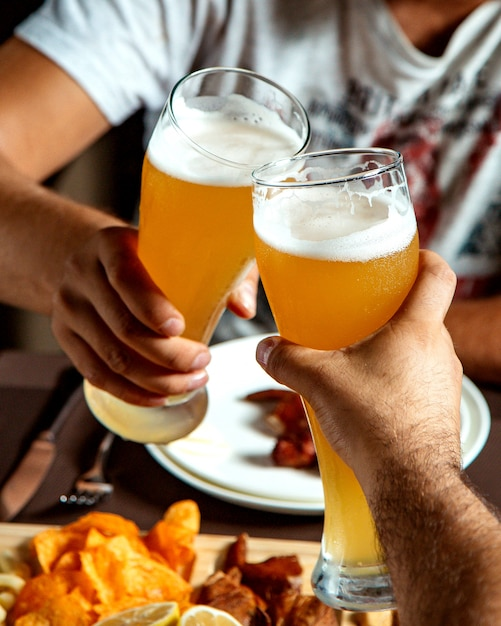alcohol: (80, 65, 310, 443), (250, 148, 424, 611)
